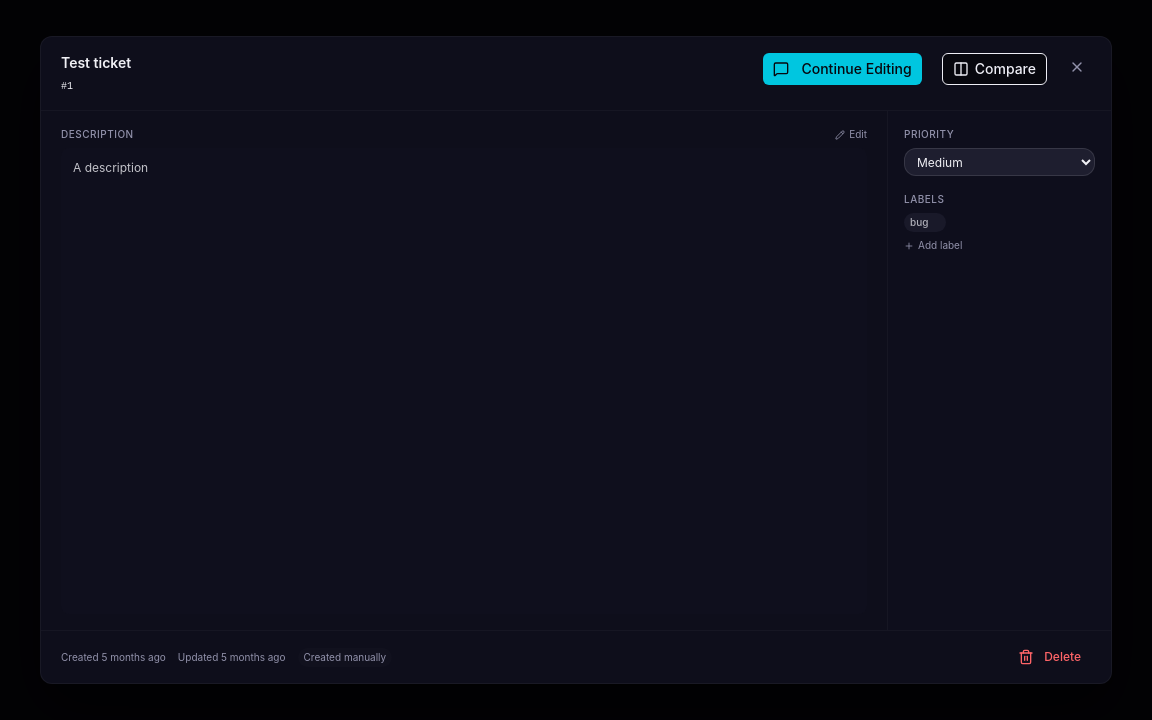
it: TicketDetailModal › priority select › shows Save button when priority is changed
Select "High" in the dropdown showing "Medium" at (1000, 162), box [904,148,1095,176]
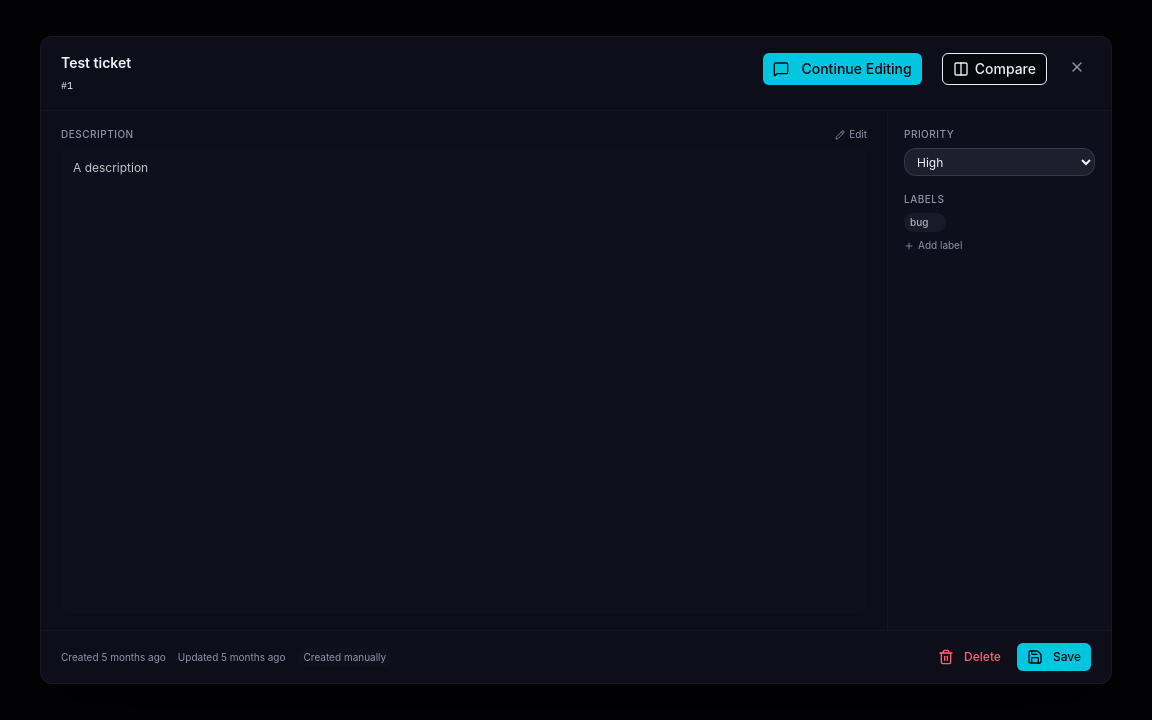
Result: the button "Save" is shown at [1017,643,1091,671]
